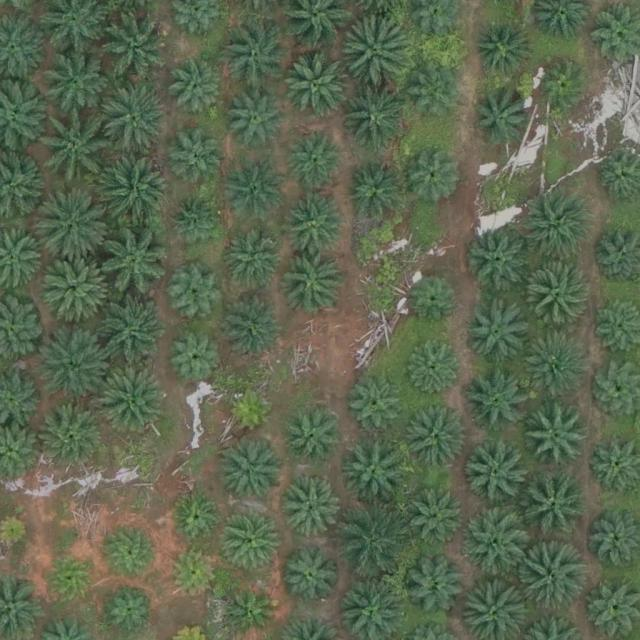Healthy: (99, 157, 170, 228), (40, 195, 111, 266), (519, 544, 589, 615), (519, 474, 589, 545), (521, 194, 591, 265), (461, 510, 532, 580), (341, 89, 411, 160), (338, 435, 408, 506), (339, 512, 409, 583), (94, 302, 164, 373), (97, 367, 167, 438), (36, 403, 106, 474), (287, 51, 357, 122), (219, 20, 289, 91), (102, 83, 172, 153), (95, 230, 165, 300), (41, 333, 111, 403), (41, 254, 111, 324), (45, 113, 115, 183), (344, 18, 414, 88), (101, 9, 171, 79), (39, 43, 109, 113), (284, 196, 347, 259), (282, 404, 345, 467), (282, 473, 345, 536), (222, 226, 285, 289), (472, 88, 535, 151), (526, 406, 588, 469), (524, 335, 587, 397), (527, 257, 589, 320), (469, 230, 532, 292), (463, 307, 525, 370), (468, 369, 530, 432), (464, 440, 526, 503), (405, 554, 467, 617), (407, 483, 470, 545), (407, 405, 469, 468), (282, 254, 344, 317), (278, 549, 340, 612), (224, 165, 286, 228), (223, 294, 285, 357), (219, 443, 281, 506), (218, 510, 280, 573), (227, 85, 289, 147), (406, 337, 461, 393), (105, 525, 160, 580), (105, 583, 160, 638), (166, 545, 221, 600), (171, 489, 226, 544), (406, 152, 461, 207), (407, 274, 462, 329), (348, 377, 403, 432), (288, 131, 343, 186), (224, 583, 279, 638), (168, 330, 223, 385), (171, 263, 226, 318), (169, 195, 224, 250), (169, 129, 224, 184), (476, 26, 531, 81), (408, 58, 463, 113), (43, 551, 97, 606), (348, 166, 402, 221), (171, 59, 225, 114)
Small: (542, 60, 589, 107)
Yellow: (225, 383, 280, 438)
